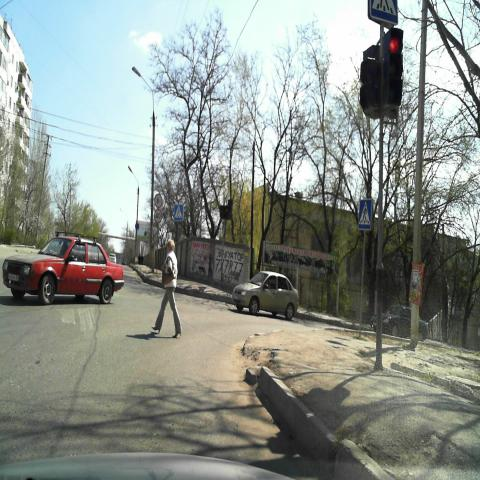3_11: (154, 193, 163, 208)
